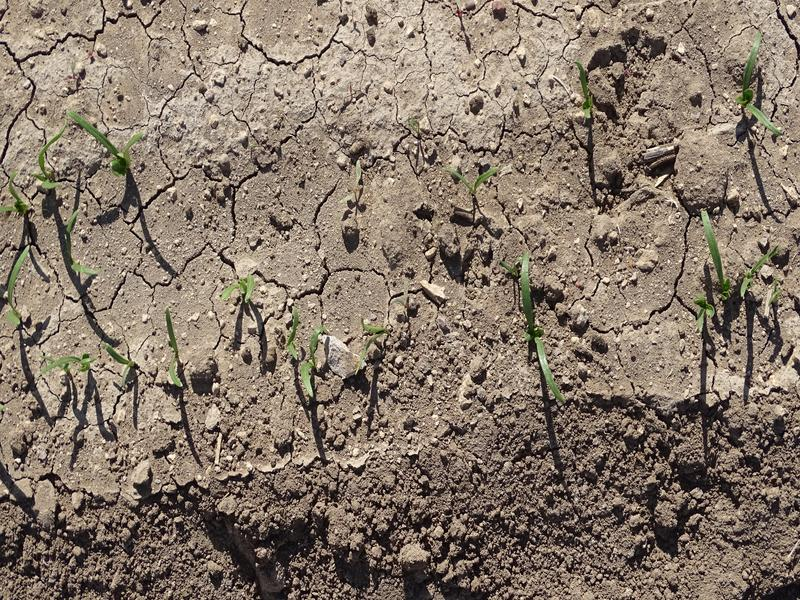Espinaca: (226, 281, 321, 394), (688, 211, 776, 330), (30, 116, 143, 190), (517, 258, 570, 410), (36, 344, 140, 385), (744, 40, 785, 140), (1, 239, 40, 324), (58, 212, 101, 277), (159, 308, 187, 389), (443, 164, 504, 194), (4, 176, 33, 215)
